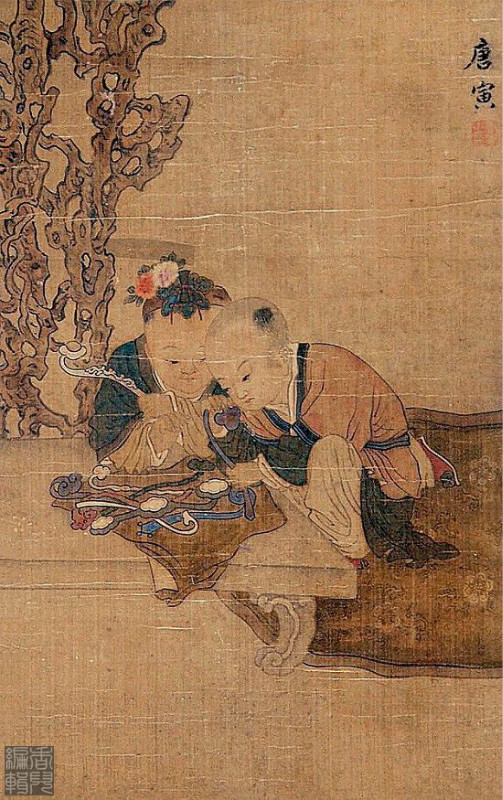decoration: (8, 11, 147, 428), (456, 422, 502, 671), (337, 583, 446, 666), (58, 479, 248, 521), (85, 370, 137, 388), (59, 351, 79, 376)
flower: (132, 267, 193, 301)
kid: (333, 360, 411, 566), (222, 317, 333, 448), (110, 353, 164, 459), (149, 299, 206, 391), (282, 453, 331, 508), (175, 400, 209, 466), (87, 400, 112, 450), (198, 283, 231, 302)
table: (9, 533, 331, 591), (262, 594, 313, 673), (1, 442, 48, 524)
